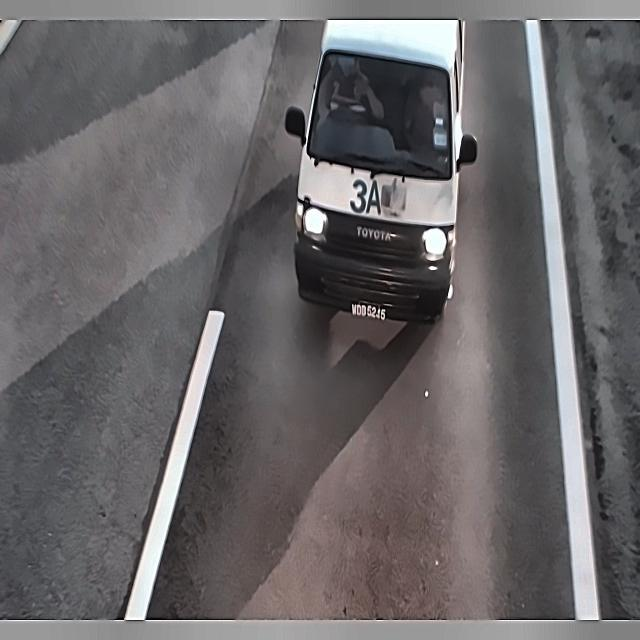car: (346, 294, 393, 328)
